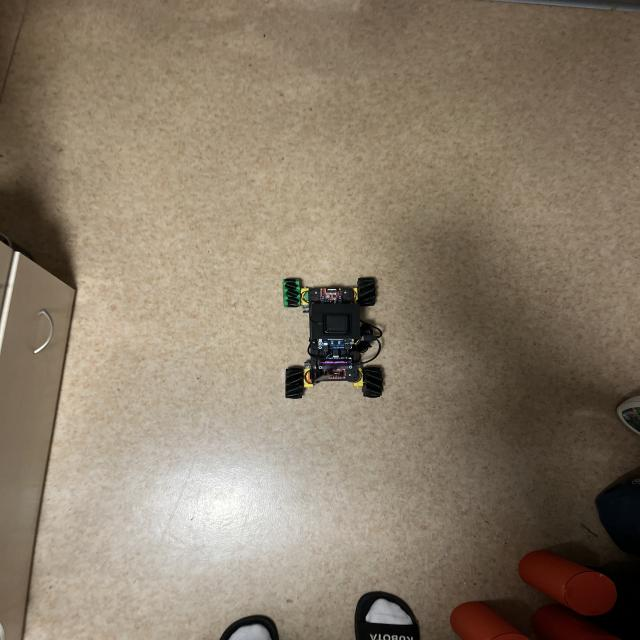robot: (283, 277, 383, 399)
